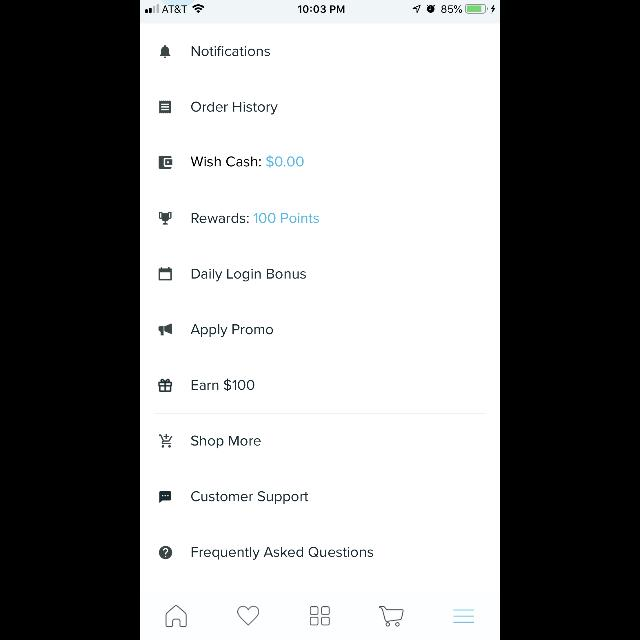icon: (379, 606, 403, 626), (166, 605, 187, 627), (237, 606, 259, 626), (310, 606, 330, 626), (454, 610, 474, 622), (159, 378, 173, 392), (160, 434, 172, 448), (159, 156, 173, 168), (160, 100, 172, 114), (160, 546, 172, 558), (160, 491, 172, 503), (160, 268, 172, 280), (160, 46, 170, 59)
image: (158, 212, 172, 224), (160, 324, 172, 336)
text: (192, 546, 372, 560), (192, 268, 306, 282), (192, 491, 308, 504), (191, 324, 273, 338), (191, 102, 277, 115), (192, 378, 254, 392), (191, 436, 261, 448), (192, 46, 270, 56), (254, 212, 318, 224), (191, 157, 261, 167), (192, 213, 248, 223), (266, 156, 304, 168)
uppertaskbar: (140, 0, 500, 14)
